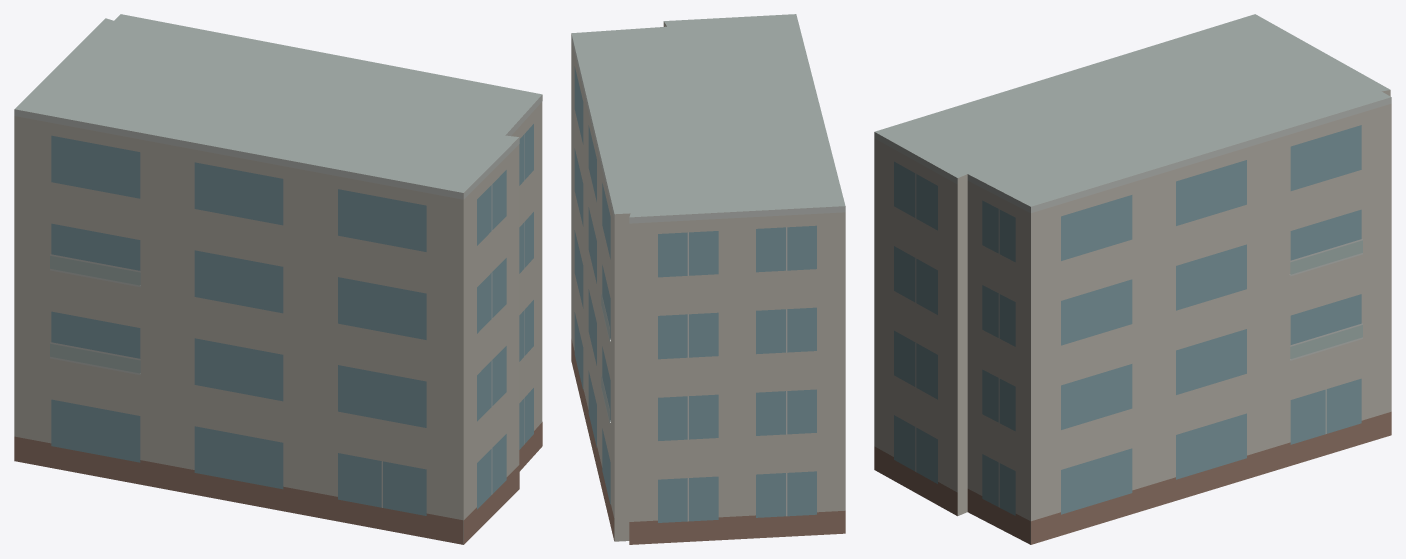
File: survey-upis-32666891.glb
The picture shows the model from 3 angles, left to right: view 1: azimuth 30°, elevation 25°; view 2: azimuth 150°, elevation 25°; view 3: azimuth 270°, elevation 25°; orthographic projection. The views are drawn at different scales.
Parts seen in each view (by area): view 1: survey-upis-32666891.tmp; view 2: survey-upis-32666891.tmp; view 3: survey-upis-32666891.tmp.
Boxes of the visible parts, x1=… form: survey-upis-32666891.tmp: x1=14, y1=14, x2=542, y2=544; survey-upis-32666891.tmp: x1=571, y1=14, x2=845, y2=544; survey-upis-32666891.tmp: x1=874, y1=14, x2=1391, y2=544.
Bounding box in the file's own units: 15.67 × 12.8 × 17.76.
